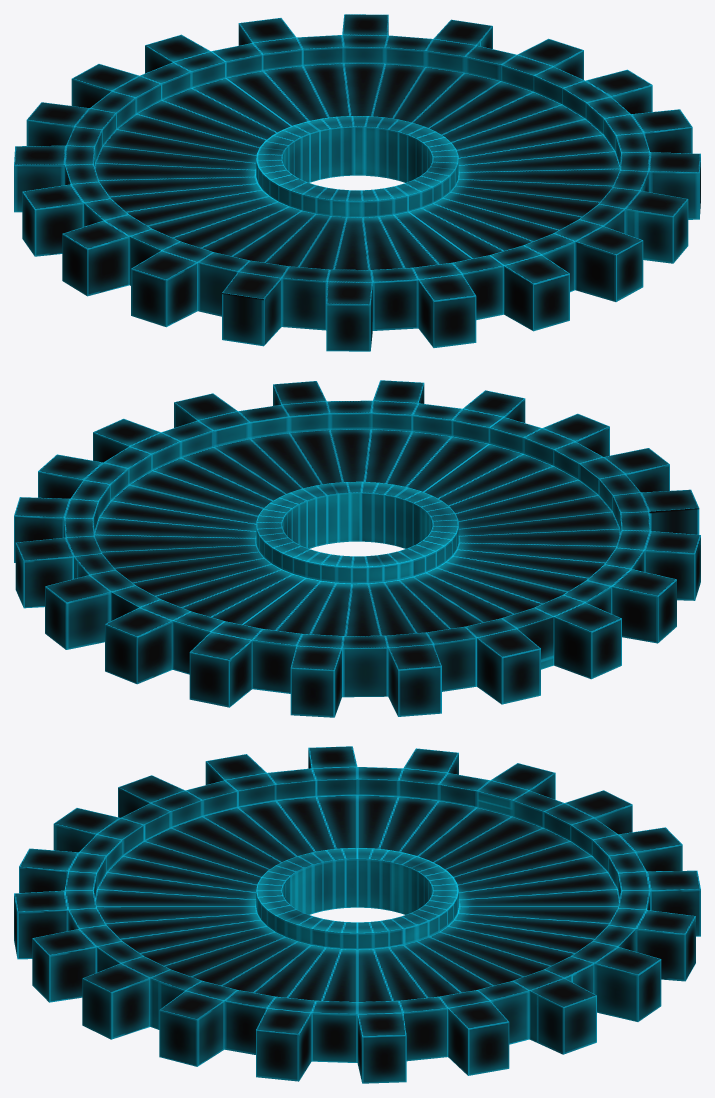
The model's file is IonGear.fbx.
3 views of the same model, one above another, from view 1: azimuth 30°, elevation 25°; view 2: azimuth 150°, elevation 25°; view 3: azimuth 270°, elevation 25° (orthographic).
Visible parts, largest first — view 1: pPipe1; view 2: pPipe1; view 3: pPipe1.
Boxes of the visible parts, <box> form: pPipe1: <box>14,14,700,351</box>; pPipe1: <box>14,380,700,717</box>; pPipe1: <box>14,746,700,1083</box>.
Bounding box in the file's own units: 23.35 × 1.83 × 23.35.
